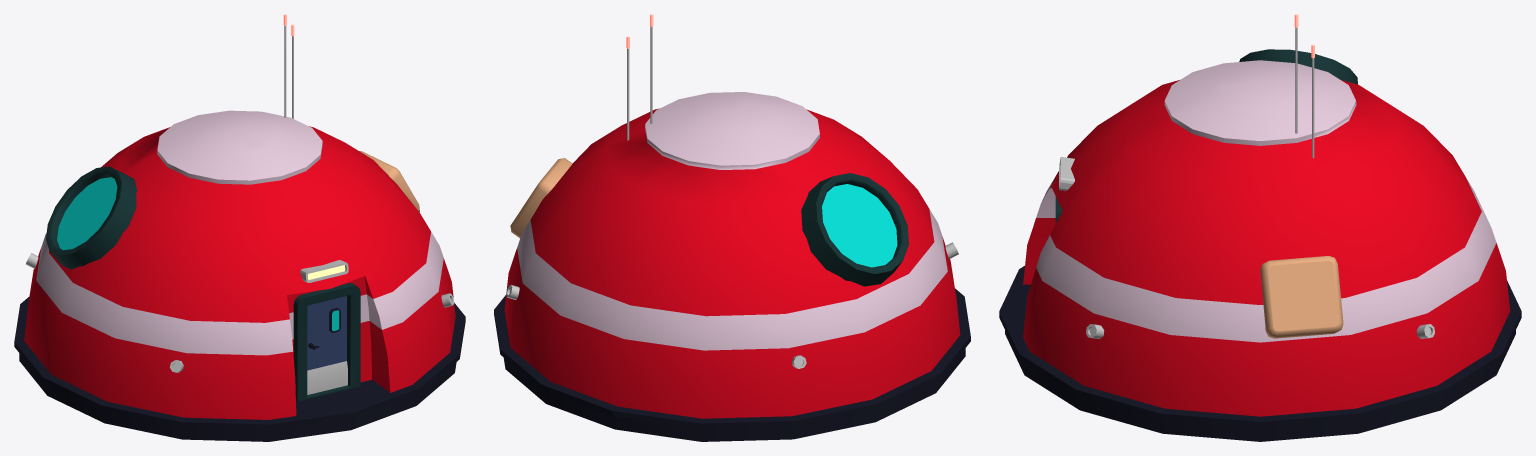
Rendered from LabDome.fbx.
3 renders of one model, left to right at view 1: azimuth 30°, elevation 25°; view 2: azimuth 150°, elevation 25°; view 3: azimuth 270°, elevation 25°, orthographic. The views are drawn at different scales.
Visible parts, largest first — view 1: Lab Dome; view 2: Lab Dome; view 3: Lab Dome.
Boxes of the visible parts, x1,y1,x2,y2 form: Lab Dome: [14, 14, 465, 441]; Lab Dome: [494, 14, 970, 441]; Lab Dome: [999, 14, 1521, 441].
Size of the model in its own units: 863 by 644 by 863.
